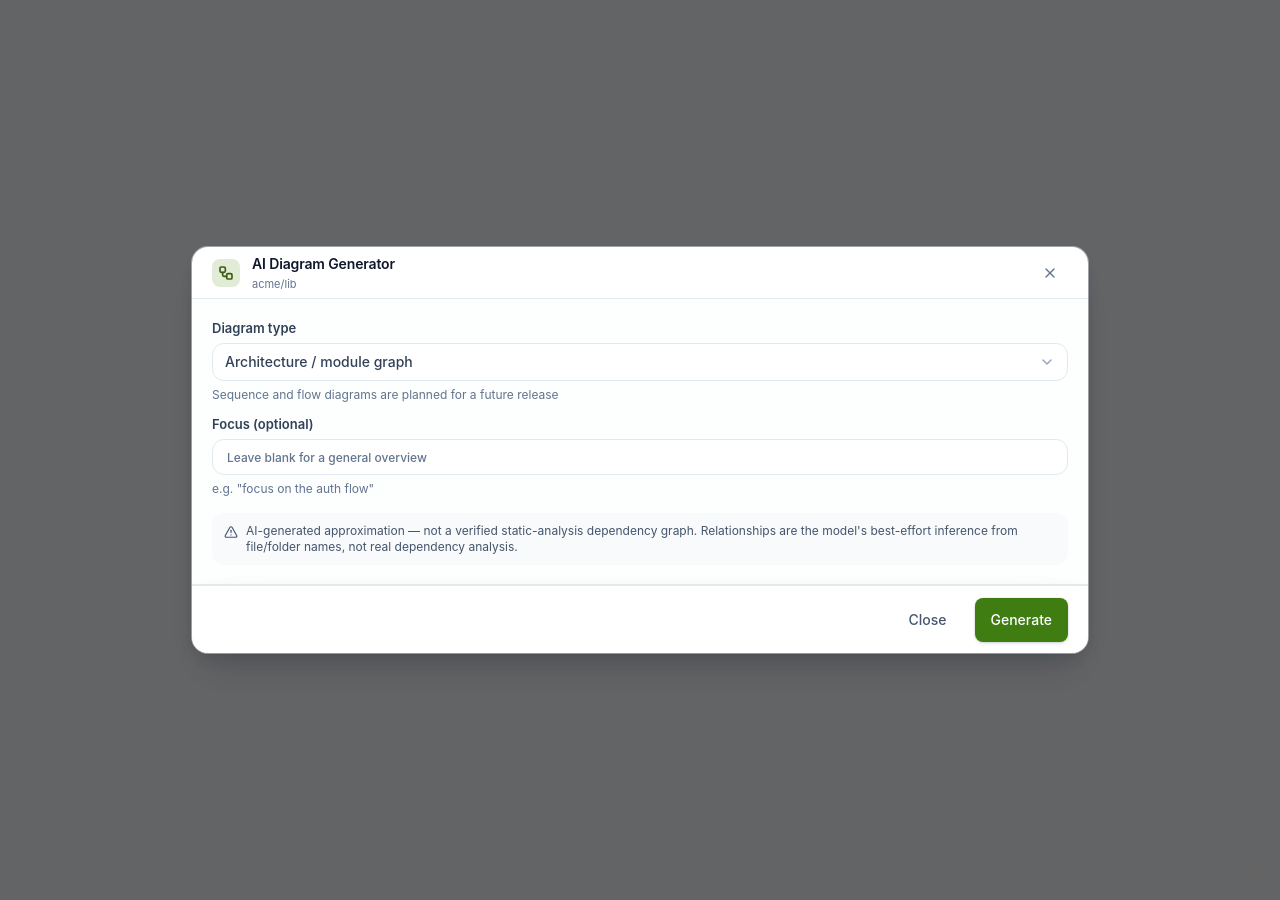
Test case: DiagramGenerator — generate + render › shows AI-not-configured guidance instead of a fake diagram when AI is unconfigured
Click the button "Generate": [1021, 620] box [974,598,1068,642]
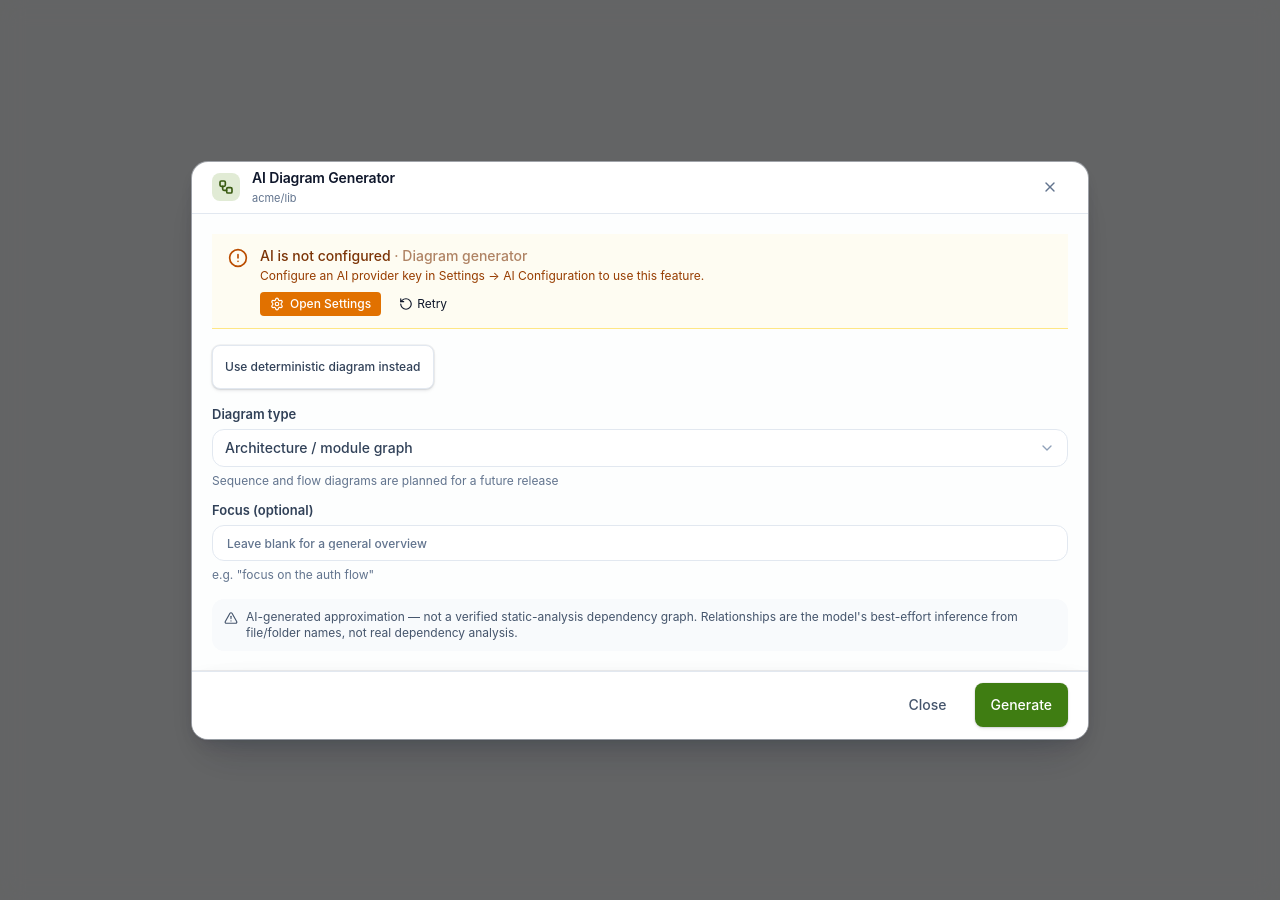
Result: the text "AI is not configured · Diagram generator" is shown at [260,246,527,264]
